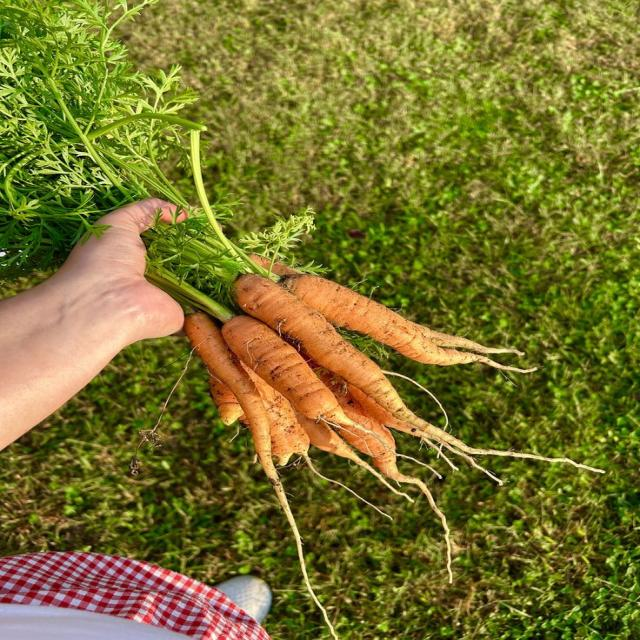carrot: (185, 313, 338, 639), (236, 275, 423, 423), (348, 385, 604, 484), (280, 274, 534, 372), (339, 394, 453, 581), (222, 316, 350, 424), (245, 366, 310, 465), (209, 376, 243, 425), (248, 254, 298, 275)
